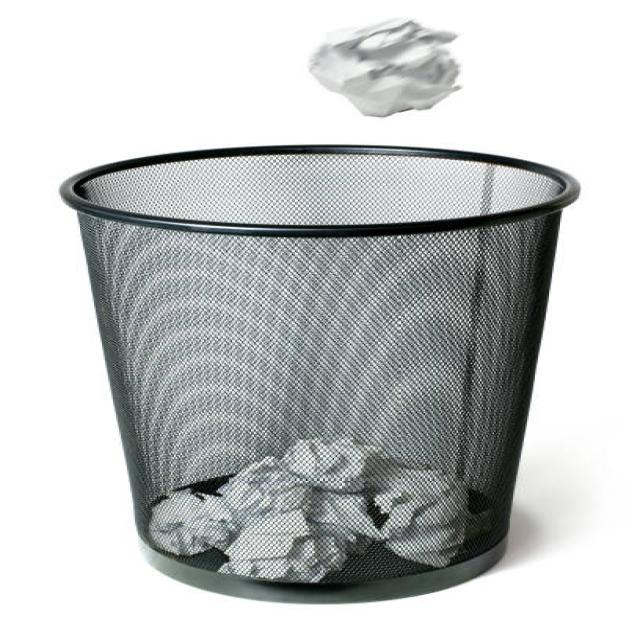electronic: (146, 436, 472, 584), (306, 16, 464, 118)
